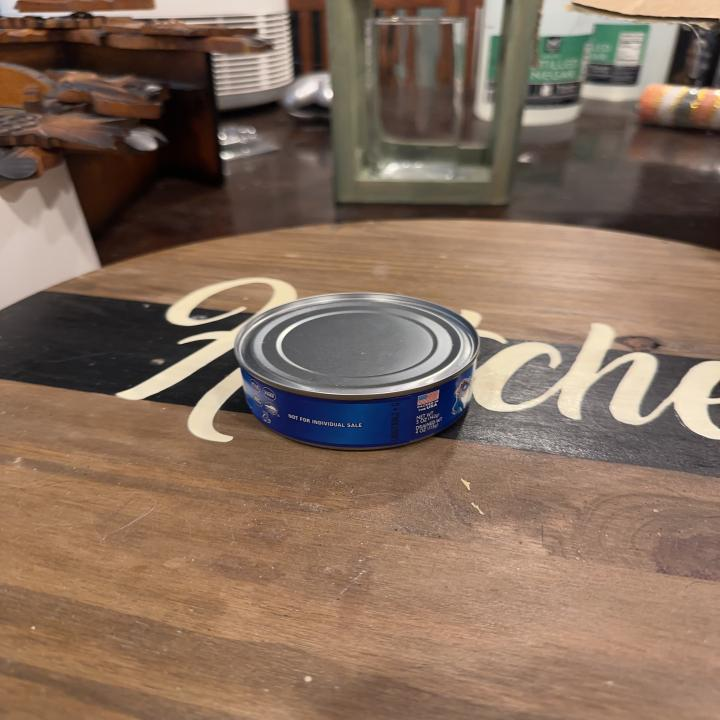Canned-Tuna: (233, 292, 481, 454)
